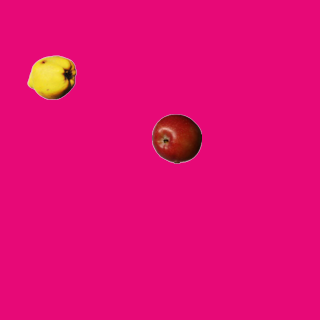Apple Braeburn: (151, 113, 201, 163)
Quince: (26, 52, 76, 102)
